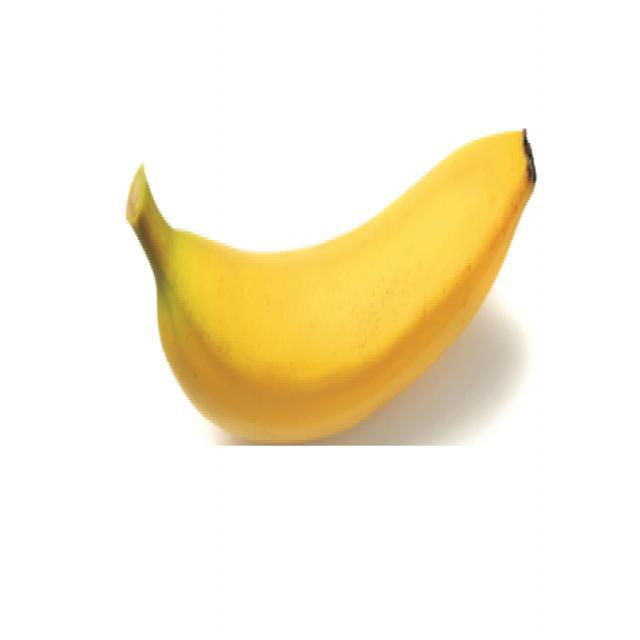banana: (123, 131, 540, 459)
